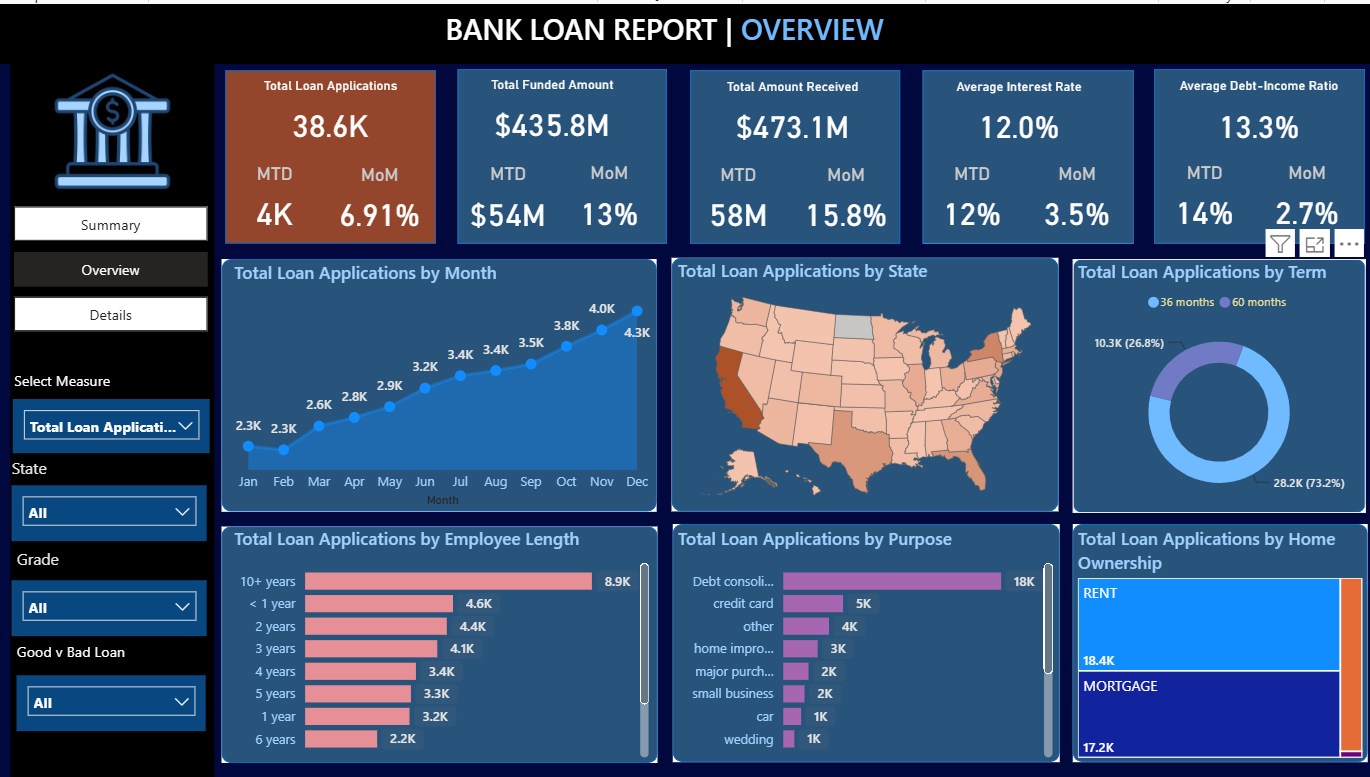

Layout of this report page (visuals, bound fields, positions):
{"tool":"powerbi","page":{"name":"Overview","canvas":[1280,720],"ordinal":1},"visuals":[{"type":"shape","box":[0,0,1280,55.7],"z":0},{"type":"slicer","fields":{"Values":["bank_loan_table.address_state"]},"box":[11.7,448.4,181.7,51.7],"z":0,"group":"g7"},{"type":"slicer","fields":{"Values":["bank_loan_table.grade"]},"box":[11.1,536.1,181.7,51.7],"z":0,"group":"g6"},{"type":"slicer","fields":{"Values":["bank_loan_table.Good VS Bad Loan"]},"box":[16.2,624.4,176.3,51.7],"z":0,"group":"g8"},{"type":"shape","box":[10,55,190,665],"z":1000},{"type":"textbox","box":[6.7,416.7,70,31.7],"z":1000,"group":"g7"},{"type":"textbox","box":[11.1,501.1,70,35],"z":1000,"group":"g6"},{"type":"textbox","box":[11.1,588.9,131.7,35.7],"z":1000,"group":"g8"},{"type":"shape","box":[206.7,236.7,405,235],"z":2000},{"type":"textbox","box":[8.9,335.6,107.5,31.2],"z":2000,"group":"g9"},{"type":"textbox","box":[410,0,518.8,55],"z":3000},{"type":"shape","box":[426.7,60,194.5,162.5],"z":3000,"group":"g2"},{"type":"shape","box":[1075,60,196.2,162.5],"z":3000,"group":"g5"},{"type":"shape","box":[210,61.2,196.2,161.2],"z":3000,"group":"g1"},{"type":"shape","box":[858.8,61.2,196.2,161.2],"z":3000,"group":"g4"},{"type":"shape","box":[642.8,61.7,195.3,161.7],"z":3000,"group":"g3"},{"type":"group","id":"g1","title":"Group 1","box":[210,61.2,196.2,161.2],"z":4000},{"type":"card","title":"Total Funded Amount","fields":{"Values":["Sum(bank_loan_table.loan_amount)"]},"box":[426.2,67.1,176,74.3],"z":4000,"group":"g2"},{"type":"card","title":"Total Loan Applications","fields":{"Values":["bank_loan_table.Total Loan Applications"]},"box":[219.3,68.2,177.6,73.7],"z":4000,"group":"g1"},{"type":"card","title":"Average Debt-Income Ratio ","fields":{"Values":["bank_loan_table.Avg DTI"]},"box":[1084.3,68.5,176.9,74.1],"z":4000,"group":"g5"},{"type":"card","title":"Average Interest Rate","fields":{"Values":["bank_loan_table.Avg Interest Rate"]},"box":[859.5,69.6,176.9,73.5],"z":4000,"group":"g4"},{"type":"card","title":"Total  Amount Received","fields":{"Values":["bank_loan_table.Total Amount Recieved"]},"box":[649.9,70,176.7,73.3],"z":4000,"group":"g3"},{"type":"group","id":"g2","title":"Group 1","box":[426.2,60,195,162.5],"z":5000},{"type":"card","title":"MTD","fields":{"Values":["bank_loan_table.MTD Avg DTI"]},"box":[1076.7,145.6,91.9,73.8],"z":5000,"group":"g5"},{"type":"card","title":"MTD","fields":{"Values":["bank_loan_table.MTD loan Applications"]},"box":[210,147.3,91.9,73.3],"z":5000,"group":"g1"},{"type":"card","title":"MTD","fields":{"Values":["bank_loan_table.MTD Funded Amount"]},"box":[427.9,147.7,91.4,74.7],"z":5000,"group":"g2"},{"type":"card","title":"MTD","fields":{"Values":["bank_loan_table.MTD Avg Rate"]},"box":[859.3,147.8,91.9,73.3],"z":5000,"group":"g4"},{"type":"card","title":"MTD","fields":{"Values":["bank_loan_table.MTD Total Amount Recieved"]},"box":[641.6,148.4,91.7,73.3],"z":5000,"group":"g3"},{"type":"group","id":"g3","title":"Group 1","box":[641.6,61.7,196.7,161.7],"z":6000},{"type":"card","title":"MoM","fields":{"Values":["bank_loan_table.MoM Avg DTI"]},"box":[1165.2,145.6,103.6,73.8],"z":6000,"group":"g5"},{"type":"card","title":"MoM","fields":{"Values":["bank_loan_table.MoM Funded Amount"]},"box":[516.1,146.1,103.1,74.7],"z":6000,"group":"g2"},{"type":"card","title":"MoM","fields":{"Values":["bank_loan_table.MoM Avg Interest Rate"]},"box":[950.7,147.8,103.6,73.3],"z":6000,"group":"g4"},{"type":"card","title":"MoM","fields":{"Values":["bank_loan_table.MoM Total Amount Recieved"]},"box":[736.6,148.4,101.7,73.3],"z":6000,"group":"g3"},{"type":"card","title":"MoM","fields":{"Values":["bank_loan_table.MoM Loan Application"]},"box":[301.9,148.9,103.6,73.3],"z":6000,"group":"g1"},{"type":"group","id":"g4","title":"Group 1","box":[858.8,61.2,196.2,161.2],"z":7000},{"type":"group","id":"g5","title":"Group 1","box":[1075,60,196.2,162.5],"z":8000},{"type":"group","id":"g6","title":"Group 2","box":[11.1,501.1,181.1,86.7],"z":9000},{"type":"group","id":"g7","title":"Group 3","box":[6.7,416.7,186.7,83.3],"z":10000},{"type":"group","id":"g8","title":"Group 2","box":[11.1,588.9,181.1,87.8],"z":11000},{"type":"areaChart","fields":{"Y":["bank_loan_table.Total Loan Applications"],"Category":["Date Table.Month"]},"box":[214,238,398,234],"z":12000},{"type":"group","id":"g9","title":"Group 4","box":[8.9,335.6,186.7,81.1],"z":13000},{"type":"shape","box":[626,236,360,236],"z":14000},{"type":"slicer","fields":{"Values":["Select Measure.Select Measure"]},"box":[12.7,366.4,183.3,50],"z":14000,"group":"g9"},{"type":"shapeMap","fields":{"Value":["bank_loan_table.Total Loan Applications"],"Category":["bank_loan_table.address_state"]},"box":[626.2,236.2,361.2,236.2],"z":15000},{"type":"shape","box":[998.8,237.5,272.5,236.2],"z":16000},{"type":"donutChart","fields":{"Y":["bank_loan_table.Total Loan Applications"],"Category":["bank_loan_table.term"]},"box":[998.8,237.5,272.5,236.2],"z":17000},{"type":"shape","box":[207.1,485.7,405.7,220],"z":18000},{"type":"shape","box":[627.1,484.3,360,221.4],"z":19000},{"type":"shape","box":[998.6,484.3,274.3,221.4],"z":20000},{"type":"barChart","fields":{"Y":["bank_loan_table.Total Loan Applications"],"Category":["bank_loan_table.purpose"]},"box":[627.1,485.7,358.6,220],"z":21000},{"type":"barChart","fields":{"Y":["bank_loan_table.Total Loan Applications"],"Category":["bank_loan_table.emp_length"]},"box":[214.3,485.7,395.7,220],"z":22000},{"type":"treemap","fields":{"Values":["bank_loan_table.Total Loan Applications"],"Group":["bank_loan_table.home_ownership"]},"box":[998.6,485.7,274.3,220],"z":23000},{"type":"image","box":[26.7,62.2,157.8,111.1],"z":24000},{"type":"pageNavigator","box":[14.4,188.9,180,118.9],"z":25000}]}

Visuals, with their boxes in screenshot pixels (x1, y1, x2, y2), scaled from the page's 1280x720 canvas onto the 1370x777 screenshot:
shape: 0/0/1369/60
slicer - bank_loan_table.address_state: 13/484/207/540
slicer - bank_loan_table.grade: 12/579/206/634
slicer - bank_loan_table.Good VS Bad Loan: 17/674/206/730
shape: 11/59/214/776
textbox: 7/450/82/484
textbox: 12/541/87/579
textbox: 12/636/153/674
shape: 221/255/655/509
textbox: 10/362/125/396
textbox: 439/0/994/59
shape: 457/65/665/240
shape: 1151/65/1361/240
shape: 225/66/435/240
shape: 919/66/1129/240
shape: 688/67/897/241
"Group 1" group: 225/66/435/240
"Total Funded Amount" card: 456/72/645/153
"Total Loan Applications" card: 235/74/425/153
"Average Debt-Income Ratio " card: 1161/74/1350/154
"Average Interest Rate" card: 920/75/1109/154
"Total  Amount Received" card: 696/76/885/155
"Group 1" group: 456/65/665/240
"MTD" card: 1152/157/1251/237
"MTD" card: 225/159/323/238
"MTD" card: 458/159/556/240
"MTD" card: 920/160/1018/239
"MTD" card: 687/160/785/239
"Group 1" group: 687/67/897/241
"MoM" card: 1247/157/1358/237
"MoM" card: 552/158/663/238
"MoM" card: 1018/160/1128/239
"MoM" card: 788/160/897/239
"MoM" card: 323/161/434/240
"Group 1" group: 919/66/1129/240
"Group 1" group: 1151/65/1361/240
"Group 2" group: 12/541/206/634
"Group 3" group: 7/450/207/540
"Group 2" group: 12/636/206/730
areaChart - bank_loan_table.Total Loan Applications x Date Table.Month: 229/257/655/509
"Group 4" group: 10/362/209/450
shape: 670/255/1055/509
slicer - Select Measure.Select Measure: 14/395/210/449
shapeMap - bank_loan_table.Total Loan Applications x bank_loan_table.address_state: 670/255/1057/510
shape: 1069/256/1361/511
donutChart - bank_loan_table.Total Loan Applications x bank_loan_table.term: 1069/256/1361/511
shape: 222/524/656/762
shape: 671/523/1057/762
shape: 1069/523/1362/762
barChart - bank_loan_table.Total Loan Applications x bank_loan_table.purpose: 671/524/1055/762
barChart - bank_loan_table.Total Loan Applications x bank_loan_table.emp_length: 229/524/653/762
treemap - bank_loan_table.Total Loan Applications x bank_loan_table.home_ownership: 1069/524/1362/762
image: 29/67/197/187
pageNavigator: 15/204/208/332
